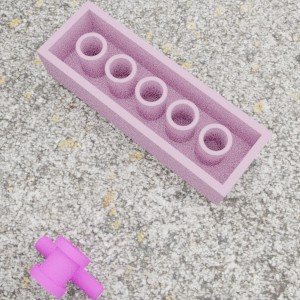lego: (36, 0, 273, 205), (29, 235, 103, 299)
